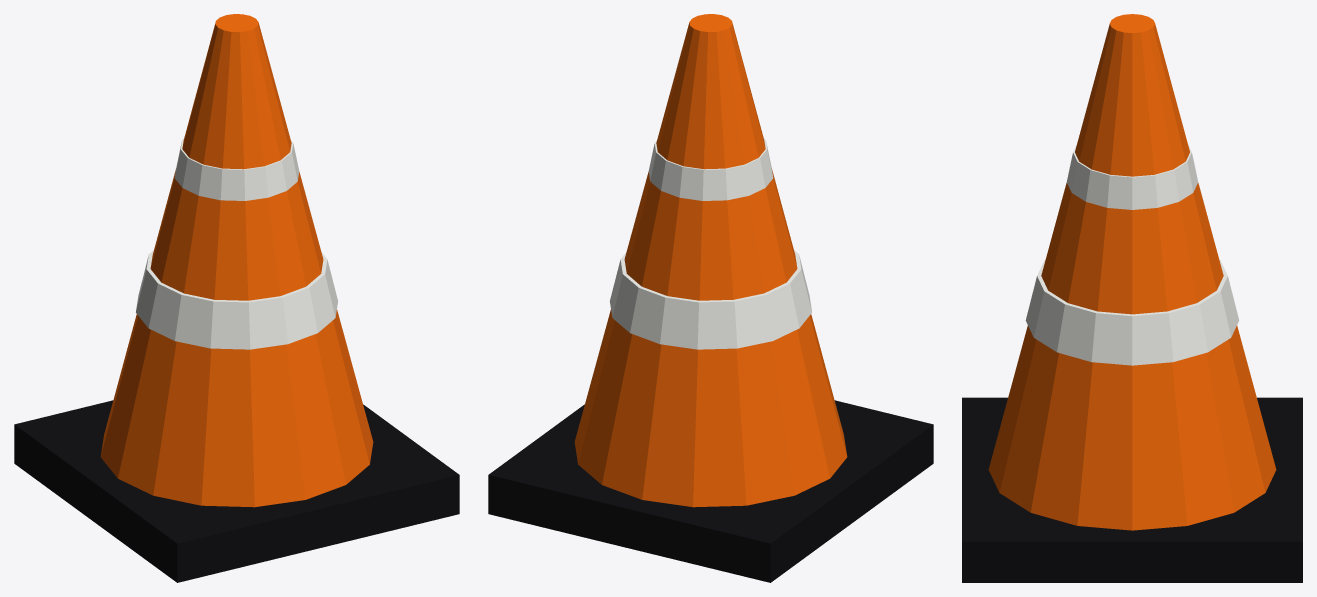
3 renders of one model, left to right at view 1: azimuth 30°, elevation 25°; view 2: azimuth 150°, elevation 25°; view 3: azimuth 270°, elevation 25°, orthographic. The views are drawn at different scales.
Visible parts, largest first — view 1: cone; view 2: cone; view 3: cone.
Boxes of the visible parts, left/top/right/bottom form: cone: left=14, top=14, right=459, bottom=582; cone: left=488, top=14, right=933, bottom=582; cone: left=962, top=14, right=1302, bottom=582.
Bounding box in the file's own units: 0.9 × 1.42 × 0.9.
